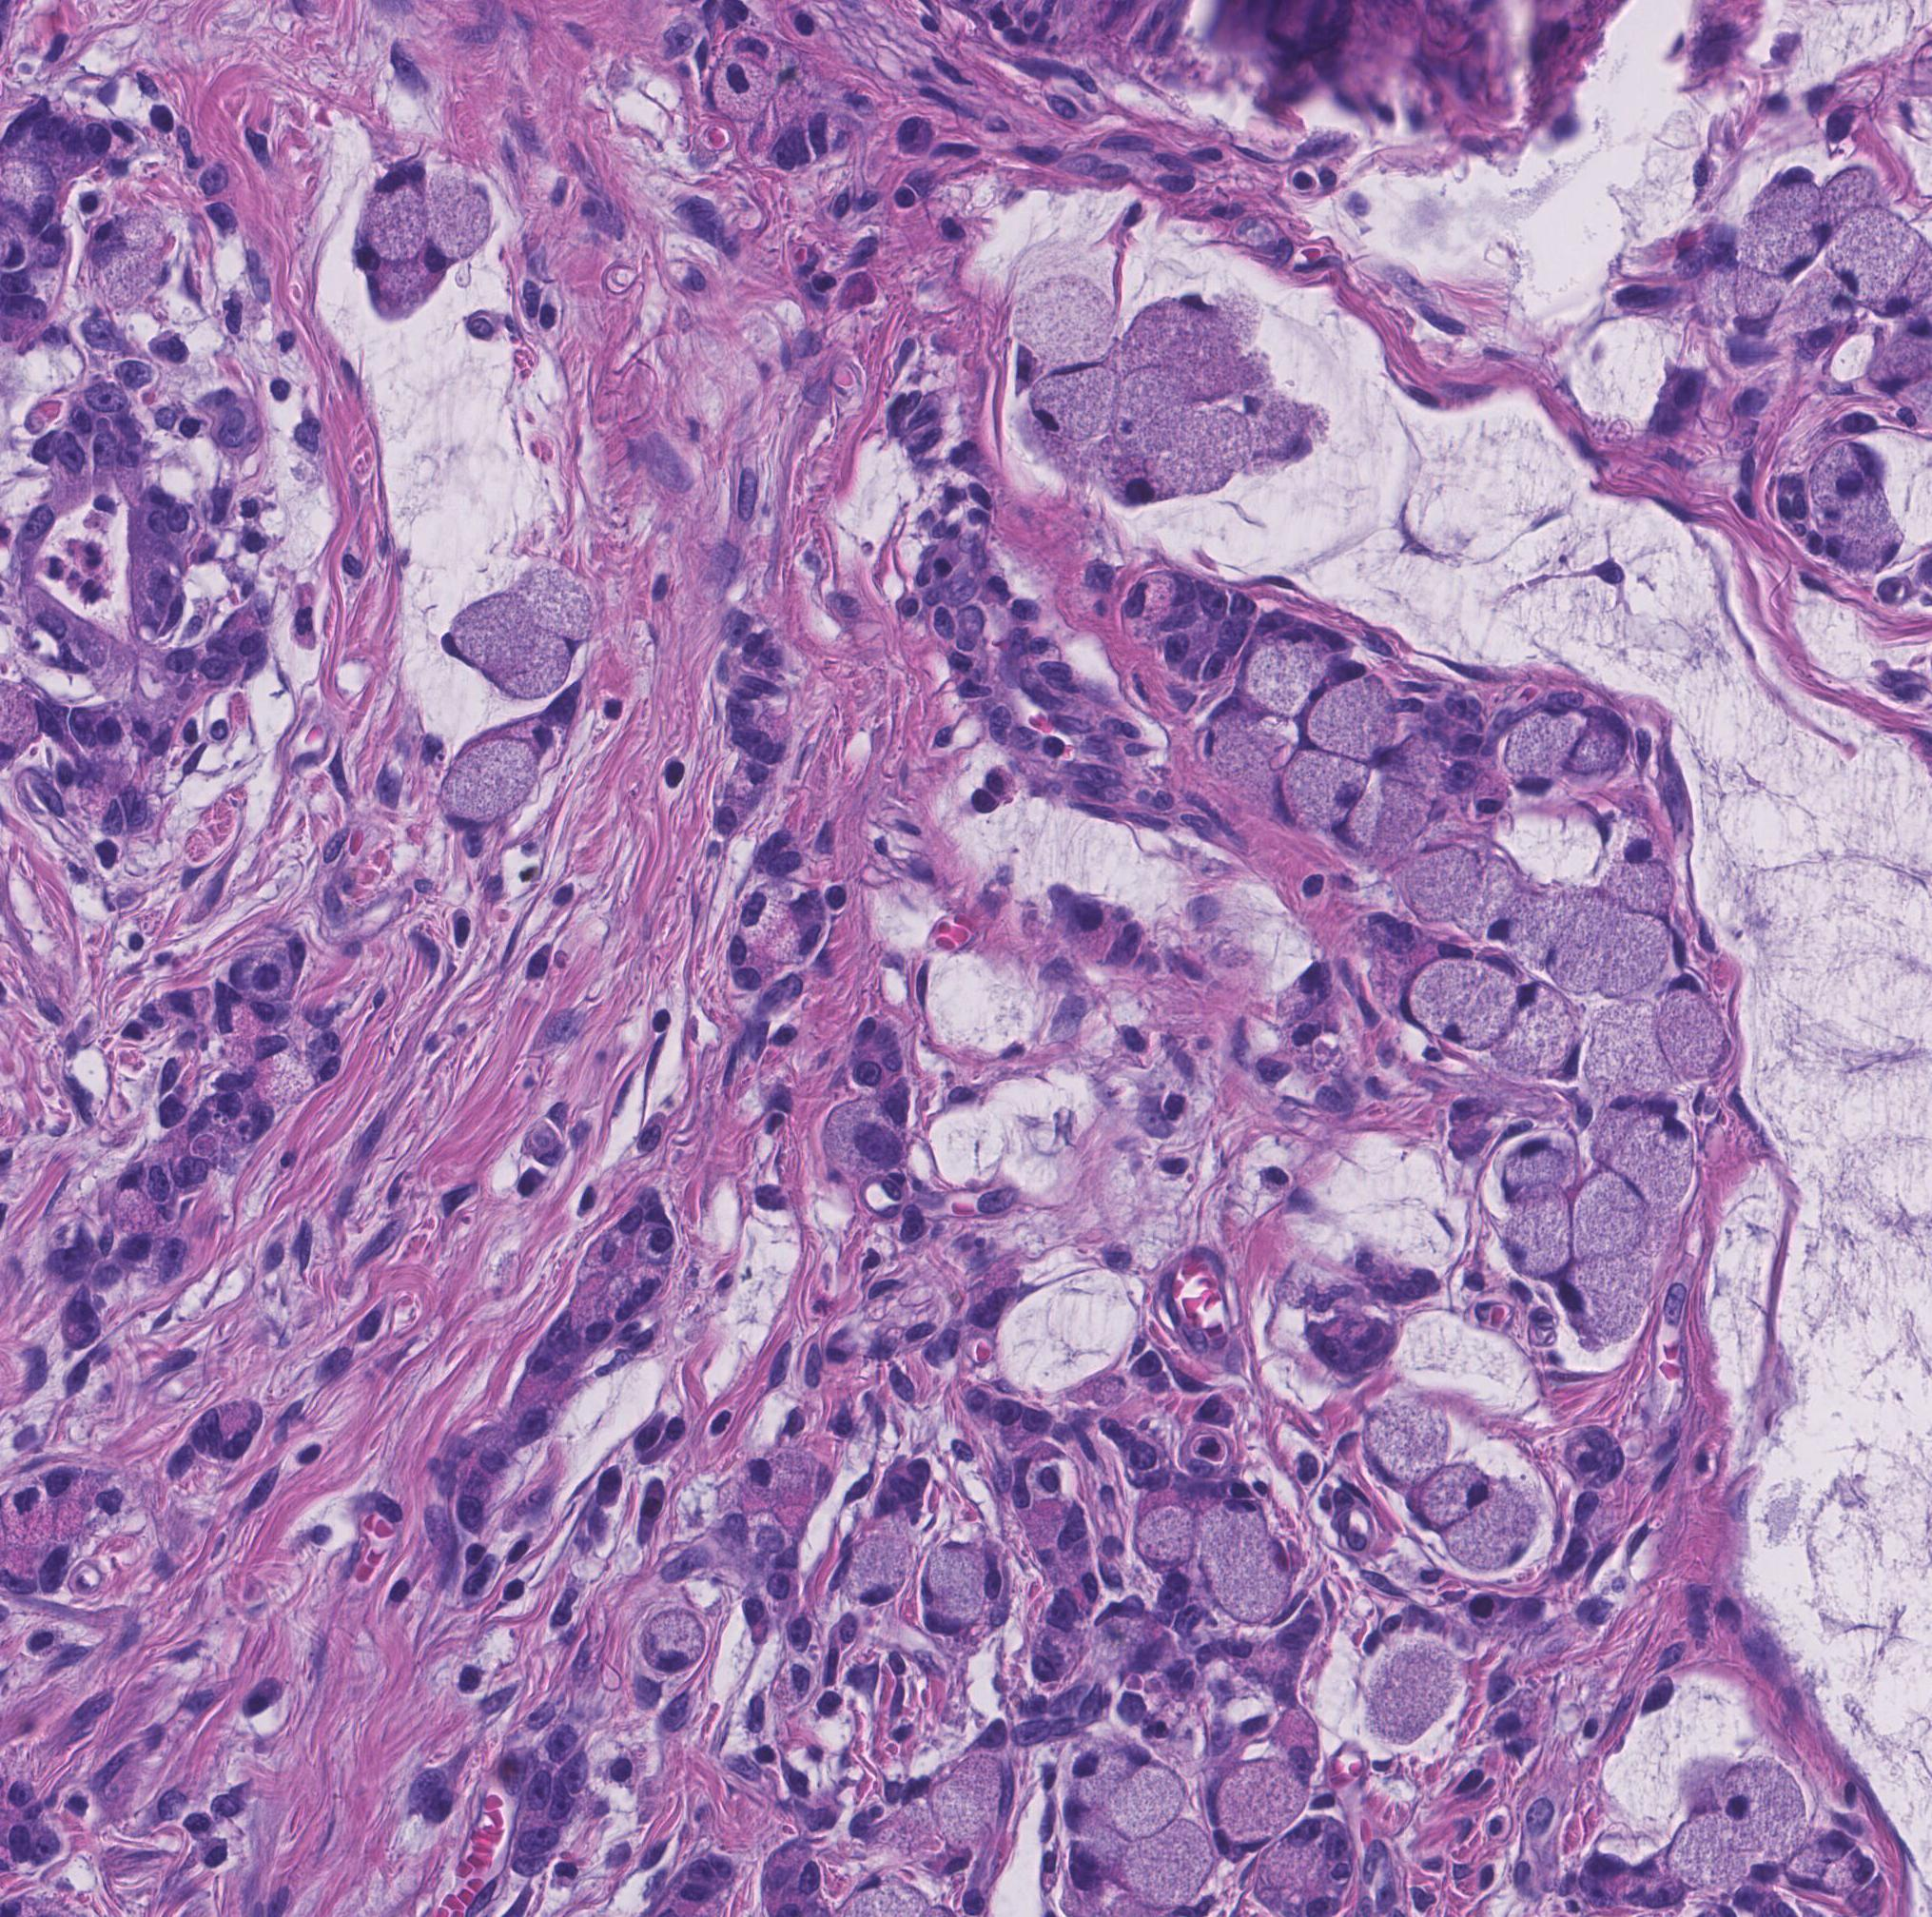ring_cell_cancer: (435, 599, 570, 697), (1014, 274, 1120, 372), (1113, 291, 1237, 367), (437, 746, 540, 834), (1299, 674, 1393, 769), (1835, 205, 1928, 298), (1727, 186, 1818, 281), (1660, 973, 1732, 1085), (1365, 1397, 1453, 1489), (1720, 1768, 1807, 1857), (818, 1095, 905, 1181), (1560, 1255, 1646, 1341), (1283, 746, 1370, 830), (514, 569, 600, 653), (1569, 1166, 1655, 1248), (1506, 987, 1579, 1080), (1025, 372, 1121, 442), (1502, 1188, 1576, 1278), (423, 186, 498, 272), (942, 1755, 1013, 1847), (1407, 841, 1486, 922), (1214, 1541, 1290, 1624), (1248, 637, 1328, 713), (918, 1548, 986, 1636), (1607, 837, 1679, 920), (1504, 709, 1571, 797), (1542, 911, 1607, 1001), (361, 176, 428, 262), (1228, 1775, 1304, 1850), (1816, 167, 1885, 248), (841, 1531, 912, 1606), (1418, 1461, 1493, 1529), (1437, 981, 1513, 1048), (1490, 881, 1546, 971), (1113, 377, 1200, 434), (1602, 918, 1692, 973), (1813, 446, 1885, 511), (709, 60, 783, 123), (369, 260, 451, 316), (460, 713, 556, 760), (1202, 1499, 1267, 1569), (1132, 1501, 1195, 1573), (640, 1608, 709, 1673), (1734, 255, 1786, 339), (91, 255, 172, 307), (1583, 700, 1634, 779), (742, 880, 798, 948), (1851, 500, 1907, 569), (40, 1466, 97, 1533), (1392, 967, 1451, 1029), (1867, 337, 1930, 395), (1263, 407, 1321, 469), (1481, 1504, 1537, 1568), (774, 899, 826, 966), (1653, 1118, 1693, 1204), (1076, 1819, 1132, 1878), (1069, 902, 1116, 967), (1513, 1139, 1569, 1194), (1070, 1747, 1128, 1799), (1597, 1090, 1637, 1162), (1202, 722, 1256, 772), (1109, 451, 1158, 507), (95, 212, 168, 249), (1128, 571, 1177, 611), (639, 1224, 683, 1267), (897, 112, 934, 156), (1481, 771, 1509, 818), (1641, 1094, 1685, 1124)
